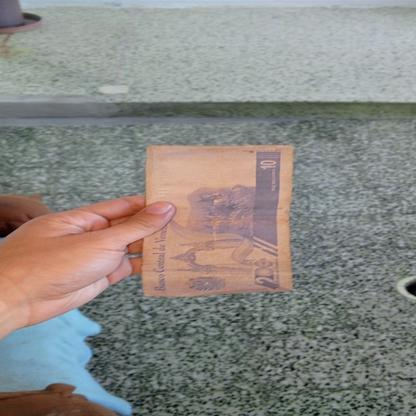ten-back-vef: (143, 145, 294, 292)
